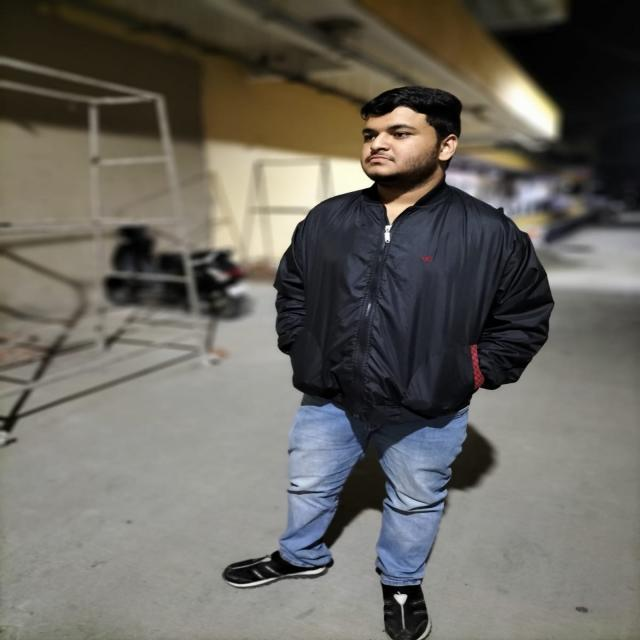Animals: (280, 66, 520, 350)
